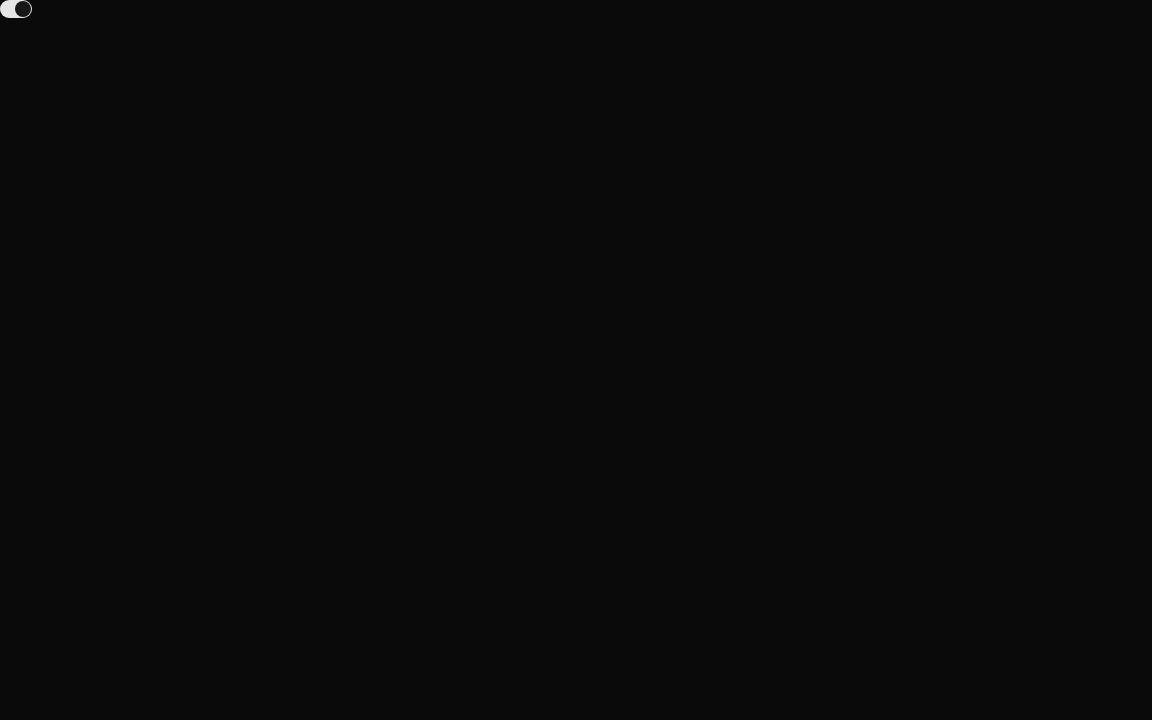
Scenario: ThemeToggle › clique alterna para claro: muda o estado visual e remove a classe 'dark' do elemento raiz
Click the switch named "modo escuro": (16, 9) [0,0,32,18]
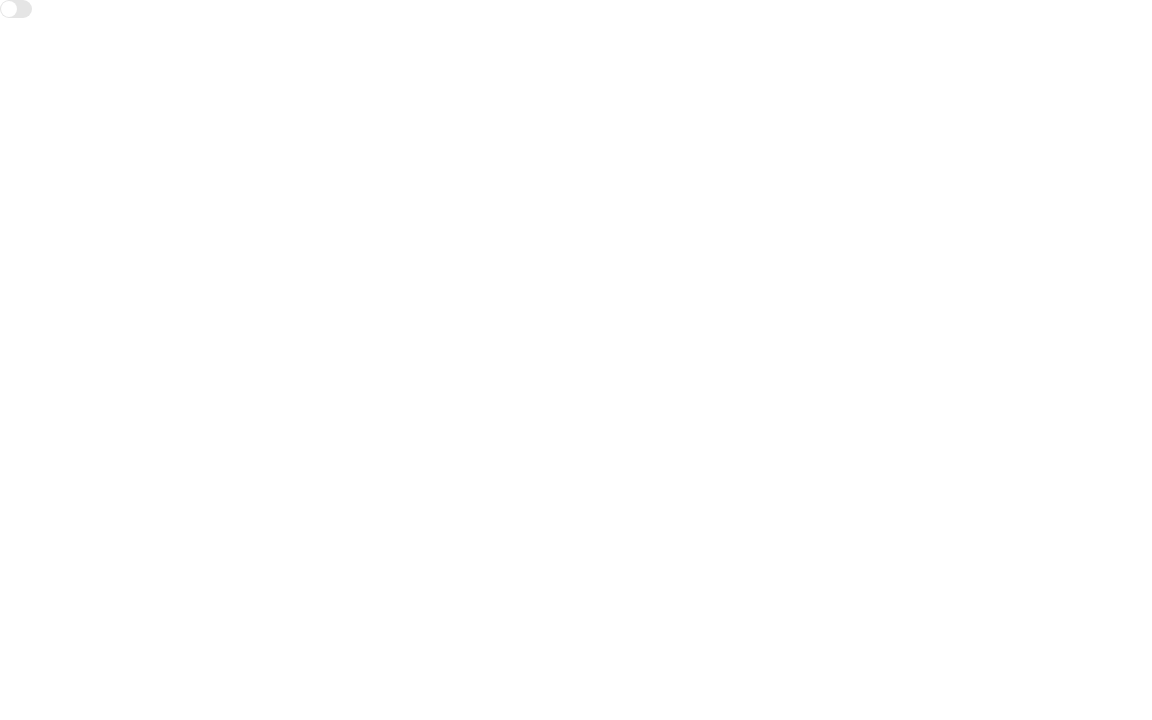
Check: the switch named "modo escuro" is not checked, box [0,0,32,18]
Check: the switch named "modo escuro" has attribute data-state="unchecked", box [0,0,32,18]
